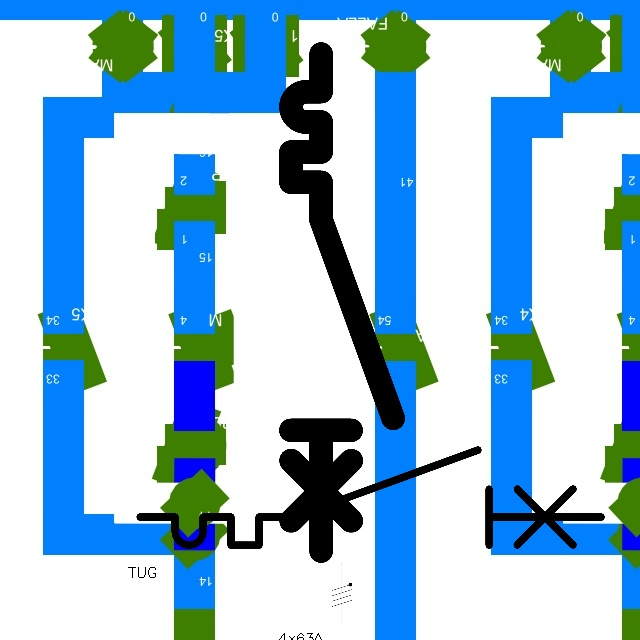interruptor_termomagnetico: (278, 41, 406, 564), (128, 438, 613, 557)
